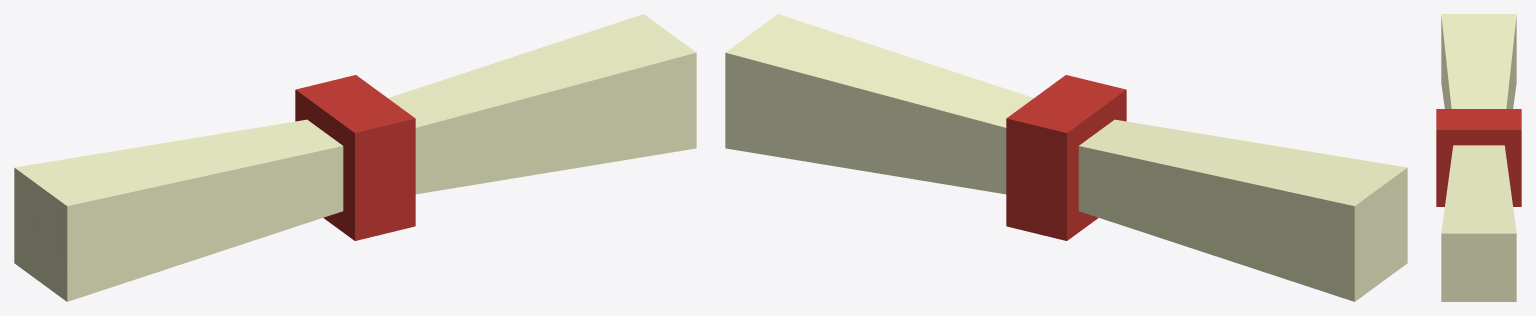
The model's file is parchment.fbx.
3 views of the same model, side by side, from view 1: azimuth 30°, elevation 25°; view 2: azimuth 150°, elevation 25°; view 3: azimuth 270°, elevation 25° (orthographic). The views are drawn at different scales.
Parts seen in each view (by area): view 1: Cube.034; view 2: Cube.034; view 3: Cube.034.
Boxes of the visible parts, x1,y1,x2,y2 form: Cube.034: (14,14,696,301); Cube.034: (725,14,1407,301); Cube.034: (1436,14,1521,301).
Bounding box in the file's own units: 25.79 × 4.23 × 4.23.
